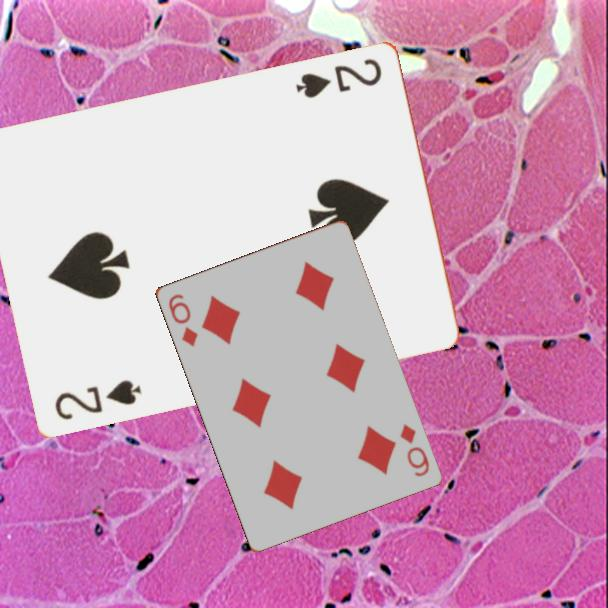d06: (164, 290, 201, 349), (396, 420, 432, 480)
s02: (51, 375, 145, 422), (292, 54, 385, 101)
